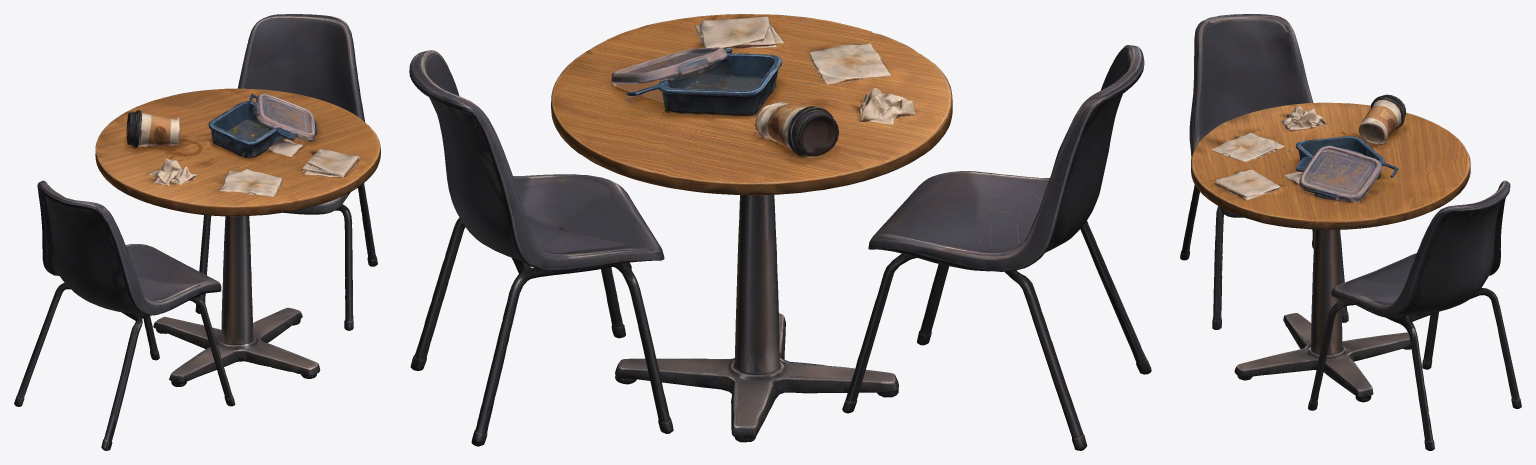
File: kitchen_lunch_table.glb
3 views of the same model, side by side, from view 1: azimuth 30°, elevation 25°; view 2: azimuth 150°, elevation 25°; view 3: azimuth 270°, elevation 25° (orthographic). The views are drawn at different scales.
Parts seen in each view (by area): view 1: mesh_node; view 2: mesh_node; view 3: mesh_node.
Part boxes in pixels (x1,y1,x2,y2): mesh_node: (14,14,380,450); mesh_node: (409,14,1151,450); mesh_node: (1180,14,1521,450).
Size of the model in its own units: 1.9 by 1.07 by 1.35.
Materials: 1 (1 with a texture image).
